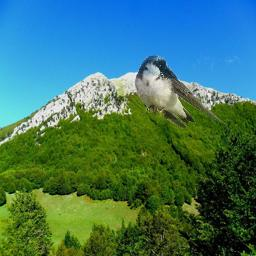Swallow: (133, 54, 224, 130)
